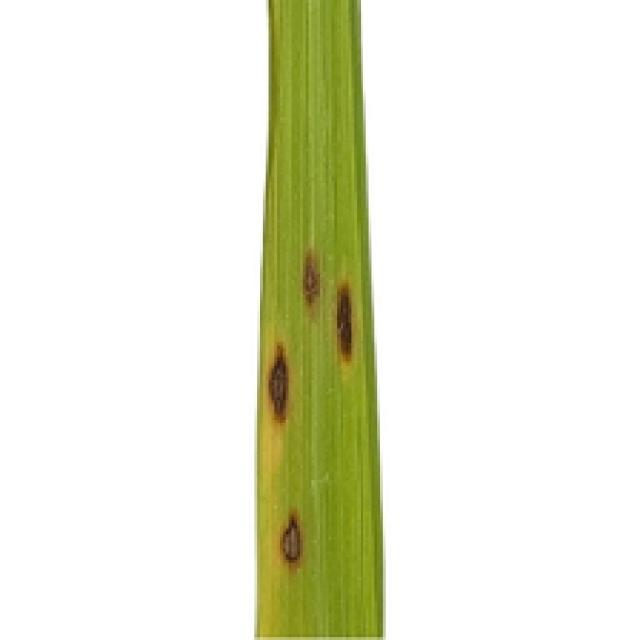Rice___Rice_Blast: (257, 0, 386, 637)
